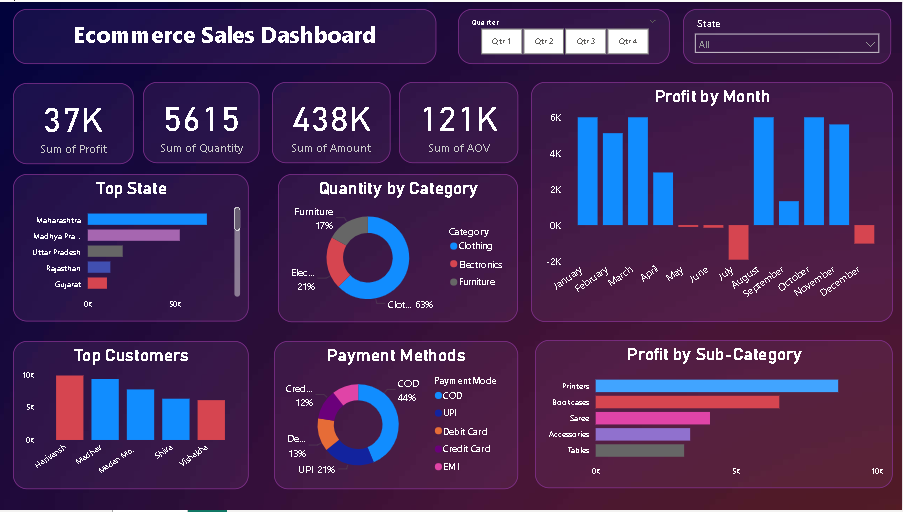

The page's visual inventory and layout, read from the dashboard file:
{"tool":"powerbi","page":{"name":"Page 1","canvas":[1280,720],"ordinal":0},"visuals":[{"type":"textbox","box":[20.6,10.3,600,77.9],"z":0},{"type":"columnChart","title":"Profit by Month","fields":{"Category":["Orders.Order Date.Variation.Date Hierarchy.Month"],"Y":["Details.Profit"]},"box":[755.9,113.2,513.2,339.7],"z":1000},{"type":"barChart","title":" Profit by Sub-Category","fields":{"Category":["Details.Sub-Category"],"Y":["Details.Profit"]},"box":[761.8,479.4,507.4,210.3],"z":2000},{"type":"donutChart","title":"Quantity by Category","fields":{"Category":["Details.Category"],"Y":["Details.Quantity"]},"box":[397.1,244.1,339.7,210.3],"z":3000},{"type":"donutChart","title":"Payment Methods","fields":{"Y":["Details.Quantity"],"Category":["Details.PaymentMode"]},"box":[391.2,480.9,345.6,210.3],"z":4000},{"type":"card","fields":{"Values":["Details.Profit"]},"box":[20.6,114.7,170.6,114.7],"z":5000},{"type":"card","fields":{"Values":["Details.Quantity"]},"box":[205.9,113.2,164.7,114.7],"z":6000},{"type":"card","fields":{"Values":["Details.Amount"]},"box":[388.2,113.2,167.6,114.7],"z":7000},{"type":"card","fields":{"Values":["Details.AOV"]},"box":[567.6,113.2,169.1,114.7],"z":8000},{"type":"barChart","title":"Top State","fields":{"Category":["Orders.State"],"Y":["Details.Amount"]},"box":[20.6,244.1,333.8,208.8],"z":9000},{"type":"columnChart","title":"Top Customers","fields":{"Category":["Orders.CustomerName"],"Y":["Details.Amount"]},"box":[20.6,480.9,333.8,210.3],"z":10000},{"type":"slicer","fields":{"Values":["Orders.State"]},"box":[970.9,9.9,294.8,78],"z":11000},{"type":"slicer","fields":{"Values":["Orders.Order Date.Variation.Date Hierarchy.Quarter"]},"box":[652,9.9,300.5,78],"z":12000}]}

Visuals, with their boxes in screenshot pixels (x1, y1, x2, y2), scaled from the page's 1280x720 canvas onto the 903x512 screenshot:
textbox: <region>15, 7, 438, 63</region>
"Profit by Month" columnChart: <region>533, 80, 895, 322</region>
" Profit by Sub-Category" barChart: <region>537, 341, 895, 490</region>
"Quantity by Category" donutChart: <region>280, 174, 520, 323</region>
"Payment Methods" donutChart: <region>276, 342, 520, 492</region>
card - Details.Profit: <region>15, 82, 135, 163</region>
card - Details.Quantity: <region>145, 80, 261, 162</region>
card - Details.Amount: <region>274, 80, 392, 162</region>
card - Details.AOV: <region>400, 80, 520, 162</region>
"Top State" barChart: <region>15, 174, 250, 322</region>
"Top Customers" columnChart: <region>15, 342, 250, 492</region>
slicer - Orders.State: <region>685, 7, 893, 63</region>
slicer - Orders.Order Date.Variation.Date Hierarchy.Quarter: <region>460, 7, 672, 63</region>
